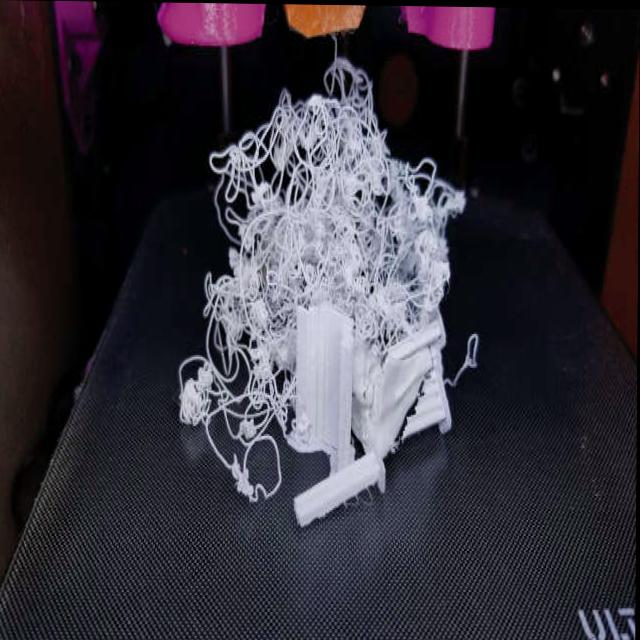spaghetti: (172, 45, 490, 521)
